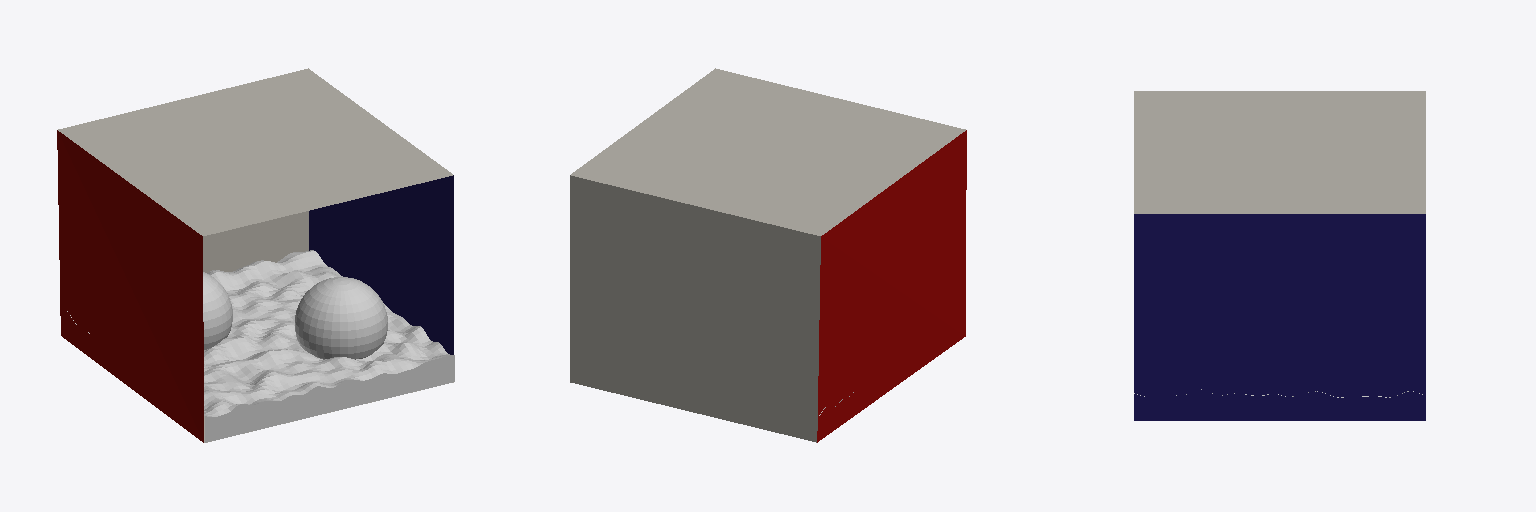
The model's file is cornell-water.obj.
The picture shows the model from 3 angles: view 1: azimuth 30°, elevation 25°; view 2: azimuth 150°, elevation 25°; view 3: azimuth 270°, elevation 25°; orthographic projection.
Parts seen in each view (by area): view 1: ceiling, leftWall, water, rightWall, rightSphere, backWall, leftSphere; view 2: backWall, ceiling, leftWall; view 3: rightWall, ceiling.
Part boxes in pixels (x1,y1,x2,y2): ceiling: (58, 68, 452, 235); leftWall: (57, 130, 203, 442); water: (67, 250, 454, 442); rightWall: (309, 175, 453, 354); rightSphere: (295, 277, 387, 359); backWall: (203, 211, 308, 272); leftSphere: (203, 272, 232, 349); backWall: (570, 175, 820, 442); ceiling: (571, 68, 965, 235); leftWall: (817, 130, 966, 442); rightWall: (1134, 214, 1425, 420); ceiling: (1134, 91, 1425, 213).
Size of the model in its own units: 2.02 by 1.59 by 2.03.